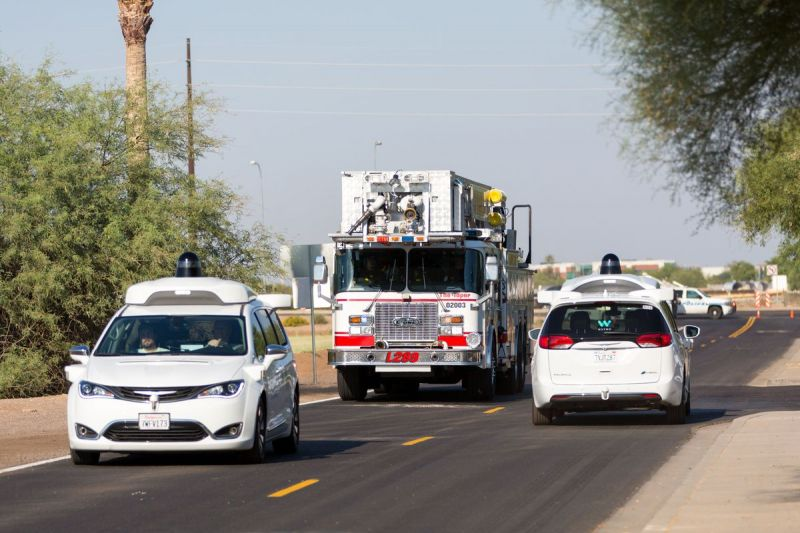car: (70, 280, 293, 458), (330, 191, 516, 399)
